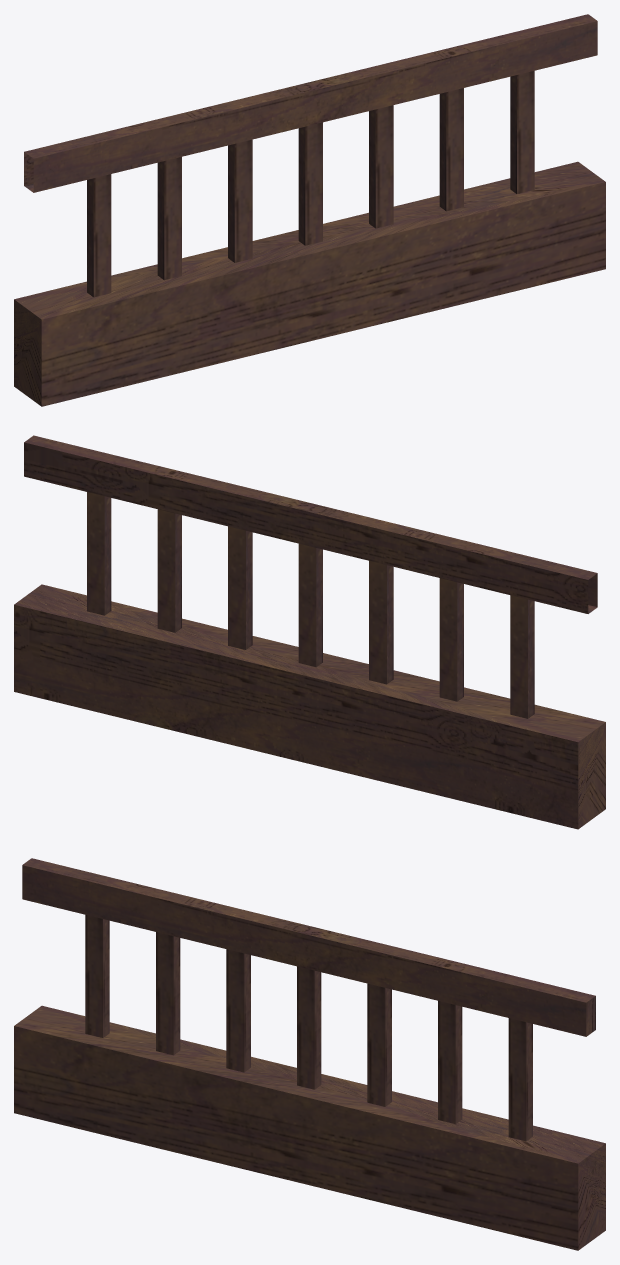
The model's file is Flat_Fence.fbx.
3 views of the same model, one above another, from view 1: azimuth 30°, elevation 25°; view 2: azimuth 150°, elevation 25°; view 3: azimuth 330°, elevation 25° (orthographic).
Parts seen in each view (by area): view 1: Plane.005; view 2: Plane.005; view 3: Plane.005.
Boxes of the visible parts, x1,y1,x2,y2 form: Plane.005: (14, 14, 605, 406); Plane.005: (14, 435, 605, 829); Plane.005: (14, 858, 605, 1250).
Size of the model in its own units: 4 by 1.64 by 0.3413.
1 material, 1 textured.
